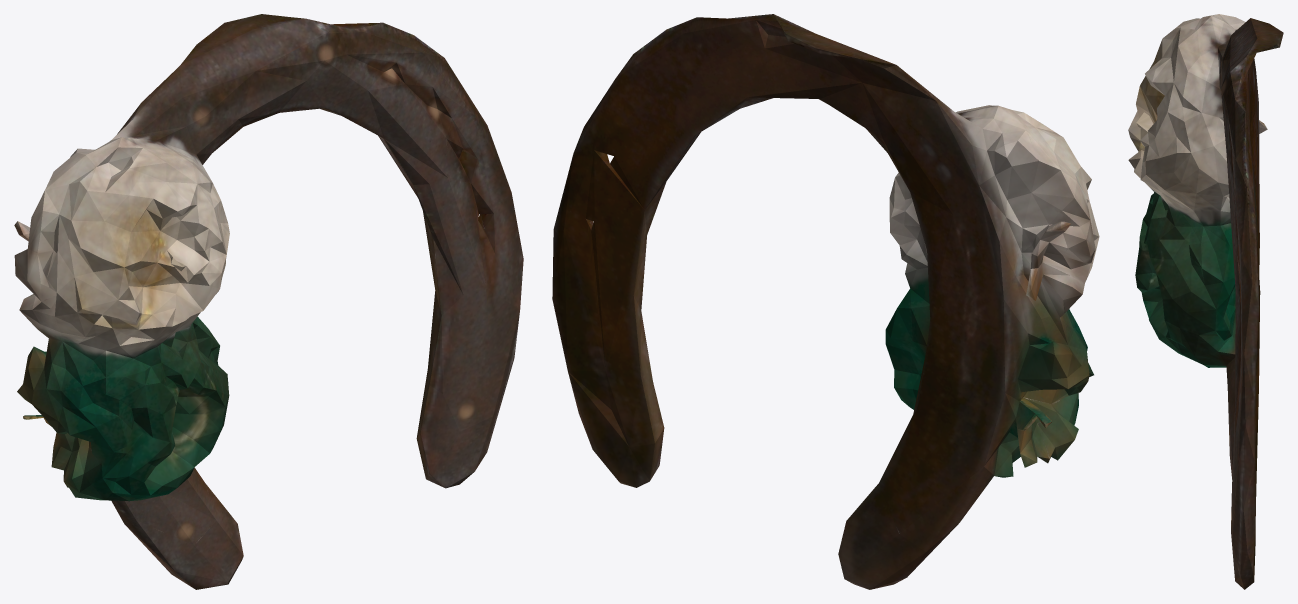
Rendered from 20062C22-7EDC-9C42-A1A4-EF6EAA1AD291_512.glb.
3 views of the same model, side by side, from view 1: azimuth 30°, elevation 25°; view 2: azimuth 150°, elevation 25°; view 3: azimuth 270°, elevation 25° (orthographic). The views are drawn at different scales.
Parts seen in each view (by area): view 1: Pfingstrosenhufeisen_1k_0.5k; view 2: Pfingstrosenhufeisen_1k_0.5k; view 3: Pfingstrosenhufeisen_1k_0.5k.
Part boxes in pixels (box(x1,y1,x2,y2)): Pfingstrosenhufeisen_1k_0.5k: box(14, 14, 523, 589); Pfingstrosenhufeisen_1k_0.5k: box(552, 14, 1099, 589); Pfingstrosenhufeisen_1k_0.5k: box(1128, 14, 1283, 589).
Bounding box in the file's own units: 0.1424 × 0.143 × 0.04.
Materials: 1 (1 with a texture image).
